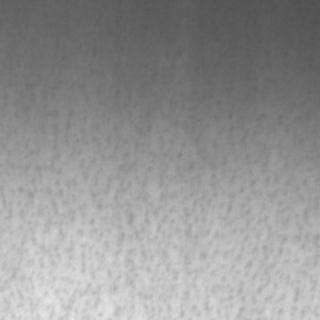pitted_surface: (0, 90, 318, 318)
